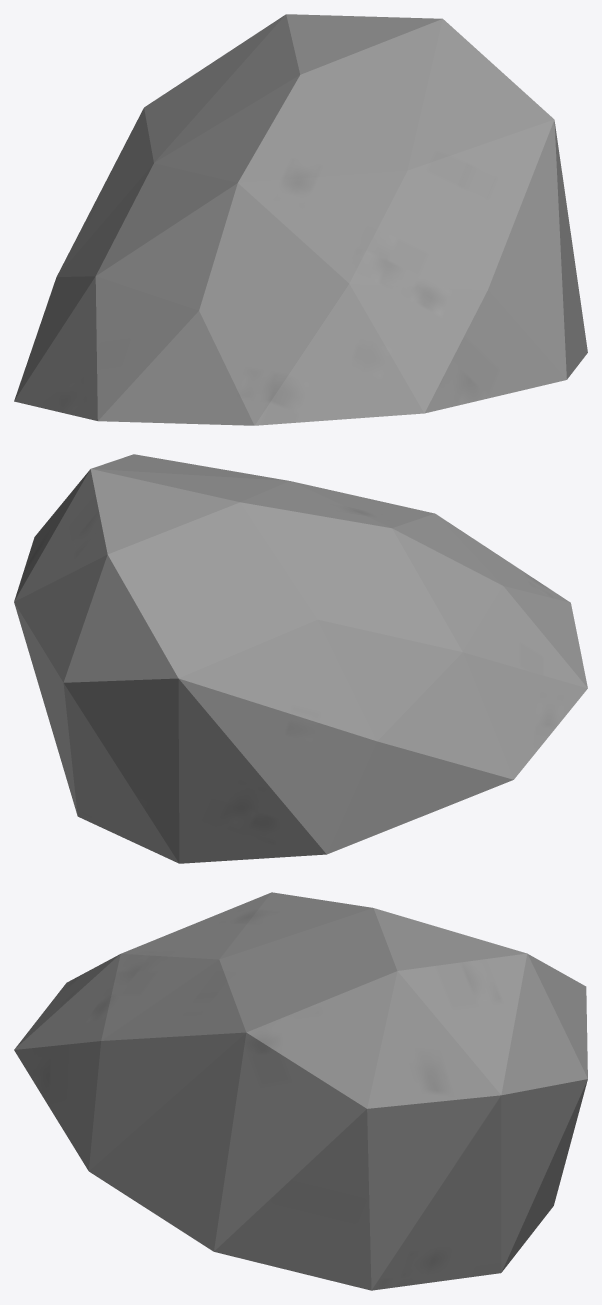
The model's file is Stones1.gltf.
3 views of the same model, one above another, from view 1: azimuth 30°, elevation 25°; view 2: azimuth 150°, elevation 25°; view 3: azimuth 270°, elevation 25° (orthographic). The views are drawn at different scales.
Visible parts, largest first — view 1: Stone1.004 - copy.002; view 2: Stone1.004 - copy.002; view 3: Stone1.004 - copy.002.
Boxes of the visible parts, x1,y1,x2,y2 form: Stone1.004 - copy.002: (14,14,587,425); Stone1.004 - copy.002: (14,454,587,863); Stone1.004 - copy.002: (14,892,587,1290).
Size of the model in its own units: 1.29 by 0.7911 by 1.28.
Materials: 1 (1 with a texture image).
